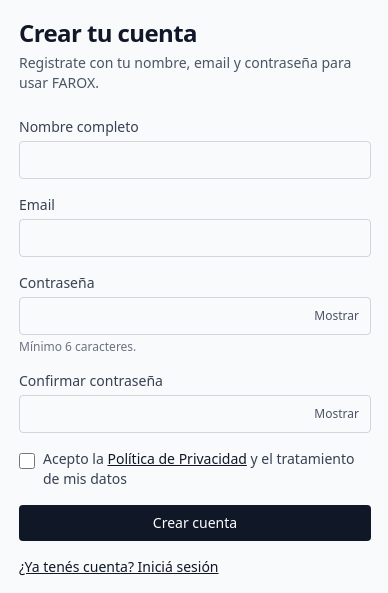
RegisterPage (D1 · ruta pública /register) › éxito: pantalla de confirmación y signUp con email, password y full_name
This screenshot has width=388, height=593.
Type "Ada Lovelace" into the field labelled "Nombre completo".
click(195, 160); type("Ada Lovelace")  # box [19,141,371,179]
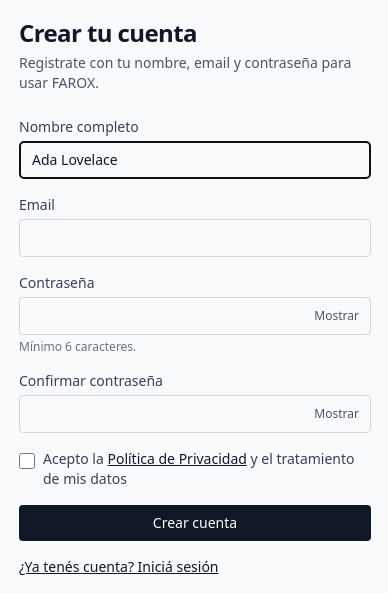
Type "demo@farox.app" into the field labelled "Email".
click(195, 238); type("demo@farox.app")  # box [19,219,371,257]
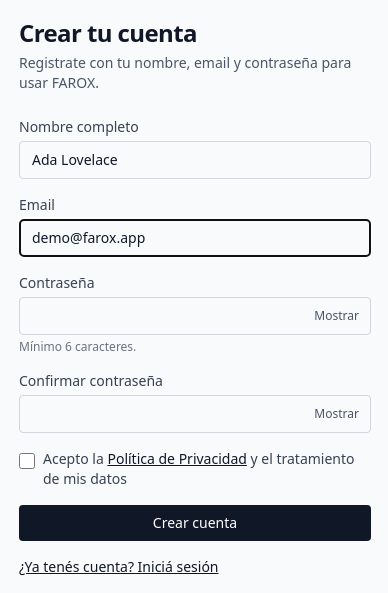
Type "secreto123" into the password field labelled "Contraseña".
click(195, 316); type("secreto123")  # box [19,297,371,335]
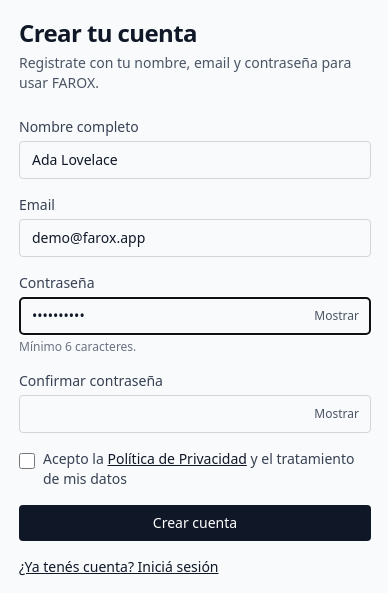
Type "secreto123" into the password field labelled "Confirmar contraseña".
click(195, 414); type("secreto123")  # box [19,395,371,433]
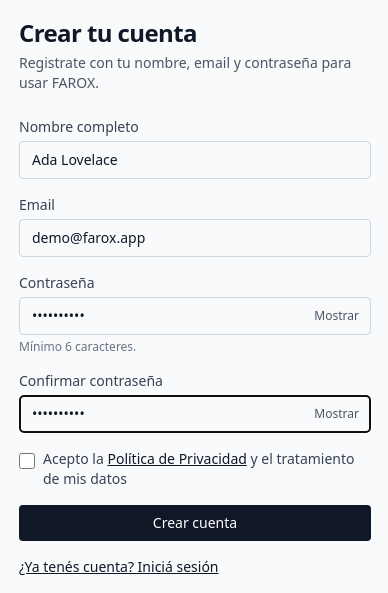
Click the checkbox labelled "Política de Privacidad".
click(27, 461)  # box [19,453,35,469]
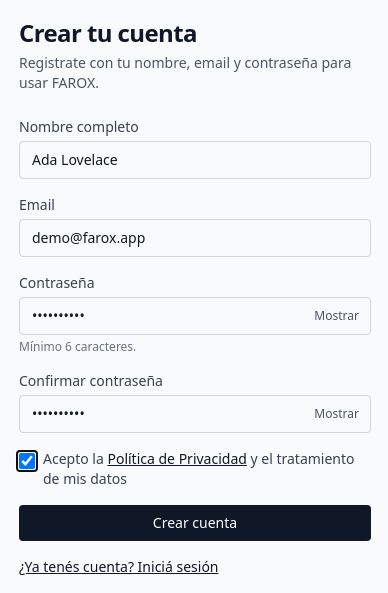
Click the button "Crear cuenta".
click(195, 523)  # box [19,505,371,541]
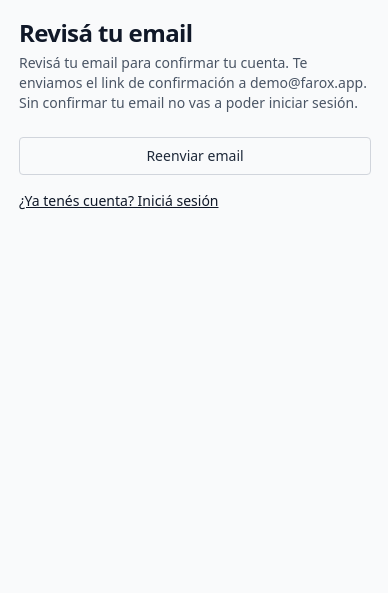
Result: the heading "Revisá tu email" is shown at [19,16,192,49]
Result: the text "Revisá tu email para confirmar tu cuenta" is shown at [19,53,308,92]
Result: the button "Crear cuenta" is gone
